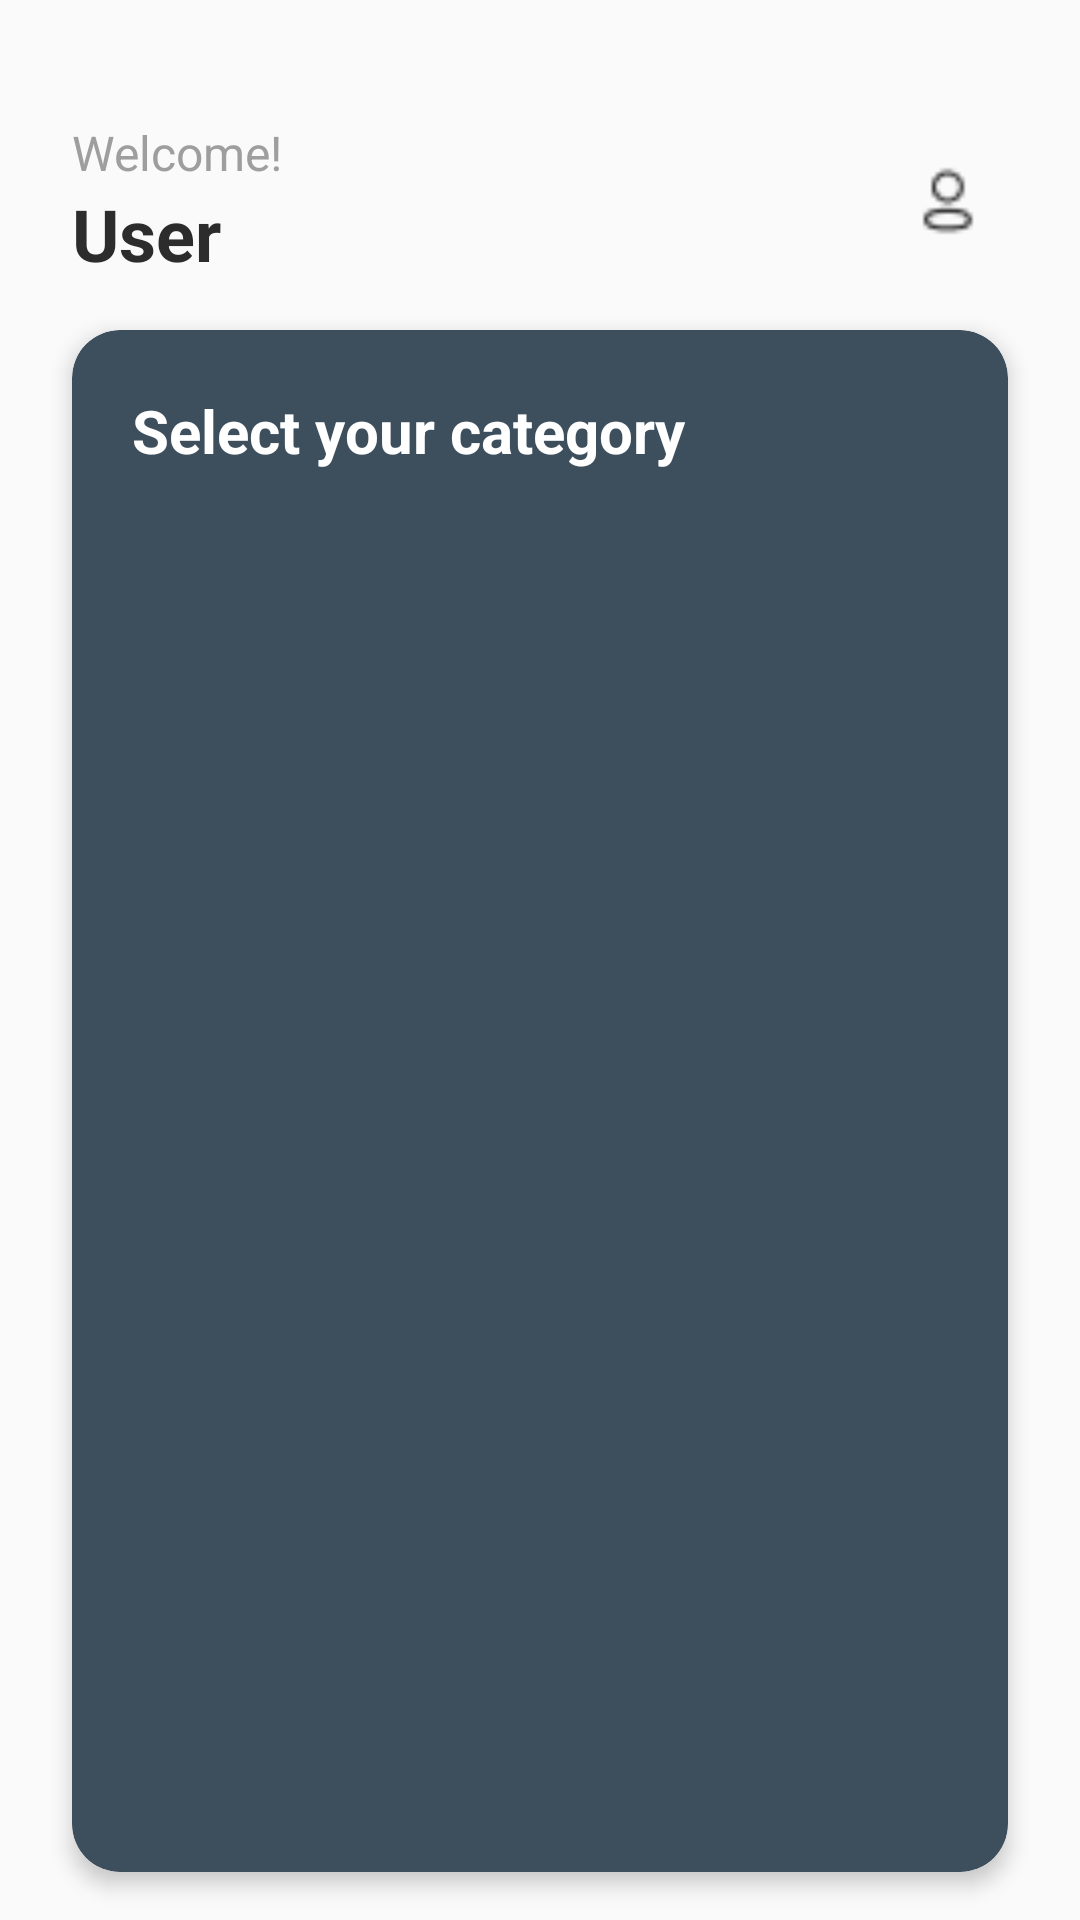

Icons on this 1080x1920 Android screen, each with its box as bbox(x1, y1, x2, y2):
Profile: bbox(922, 168, 973, 234)
